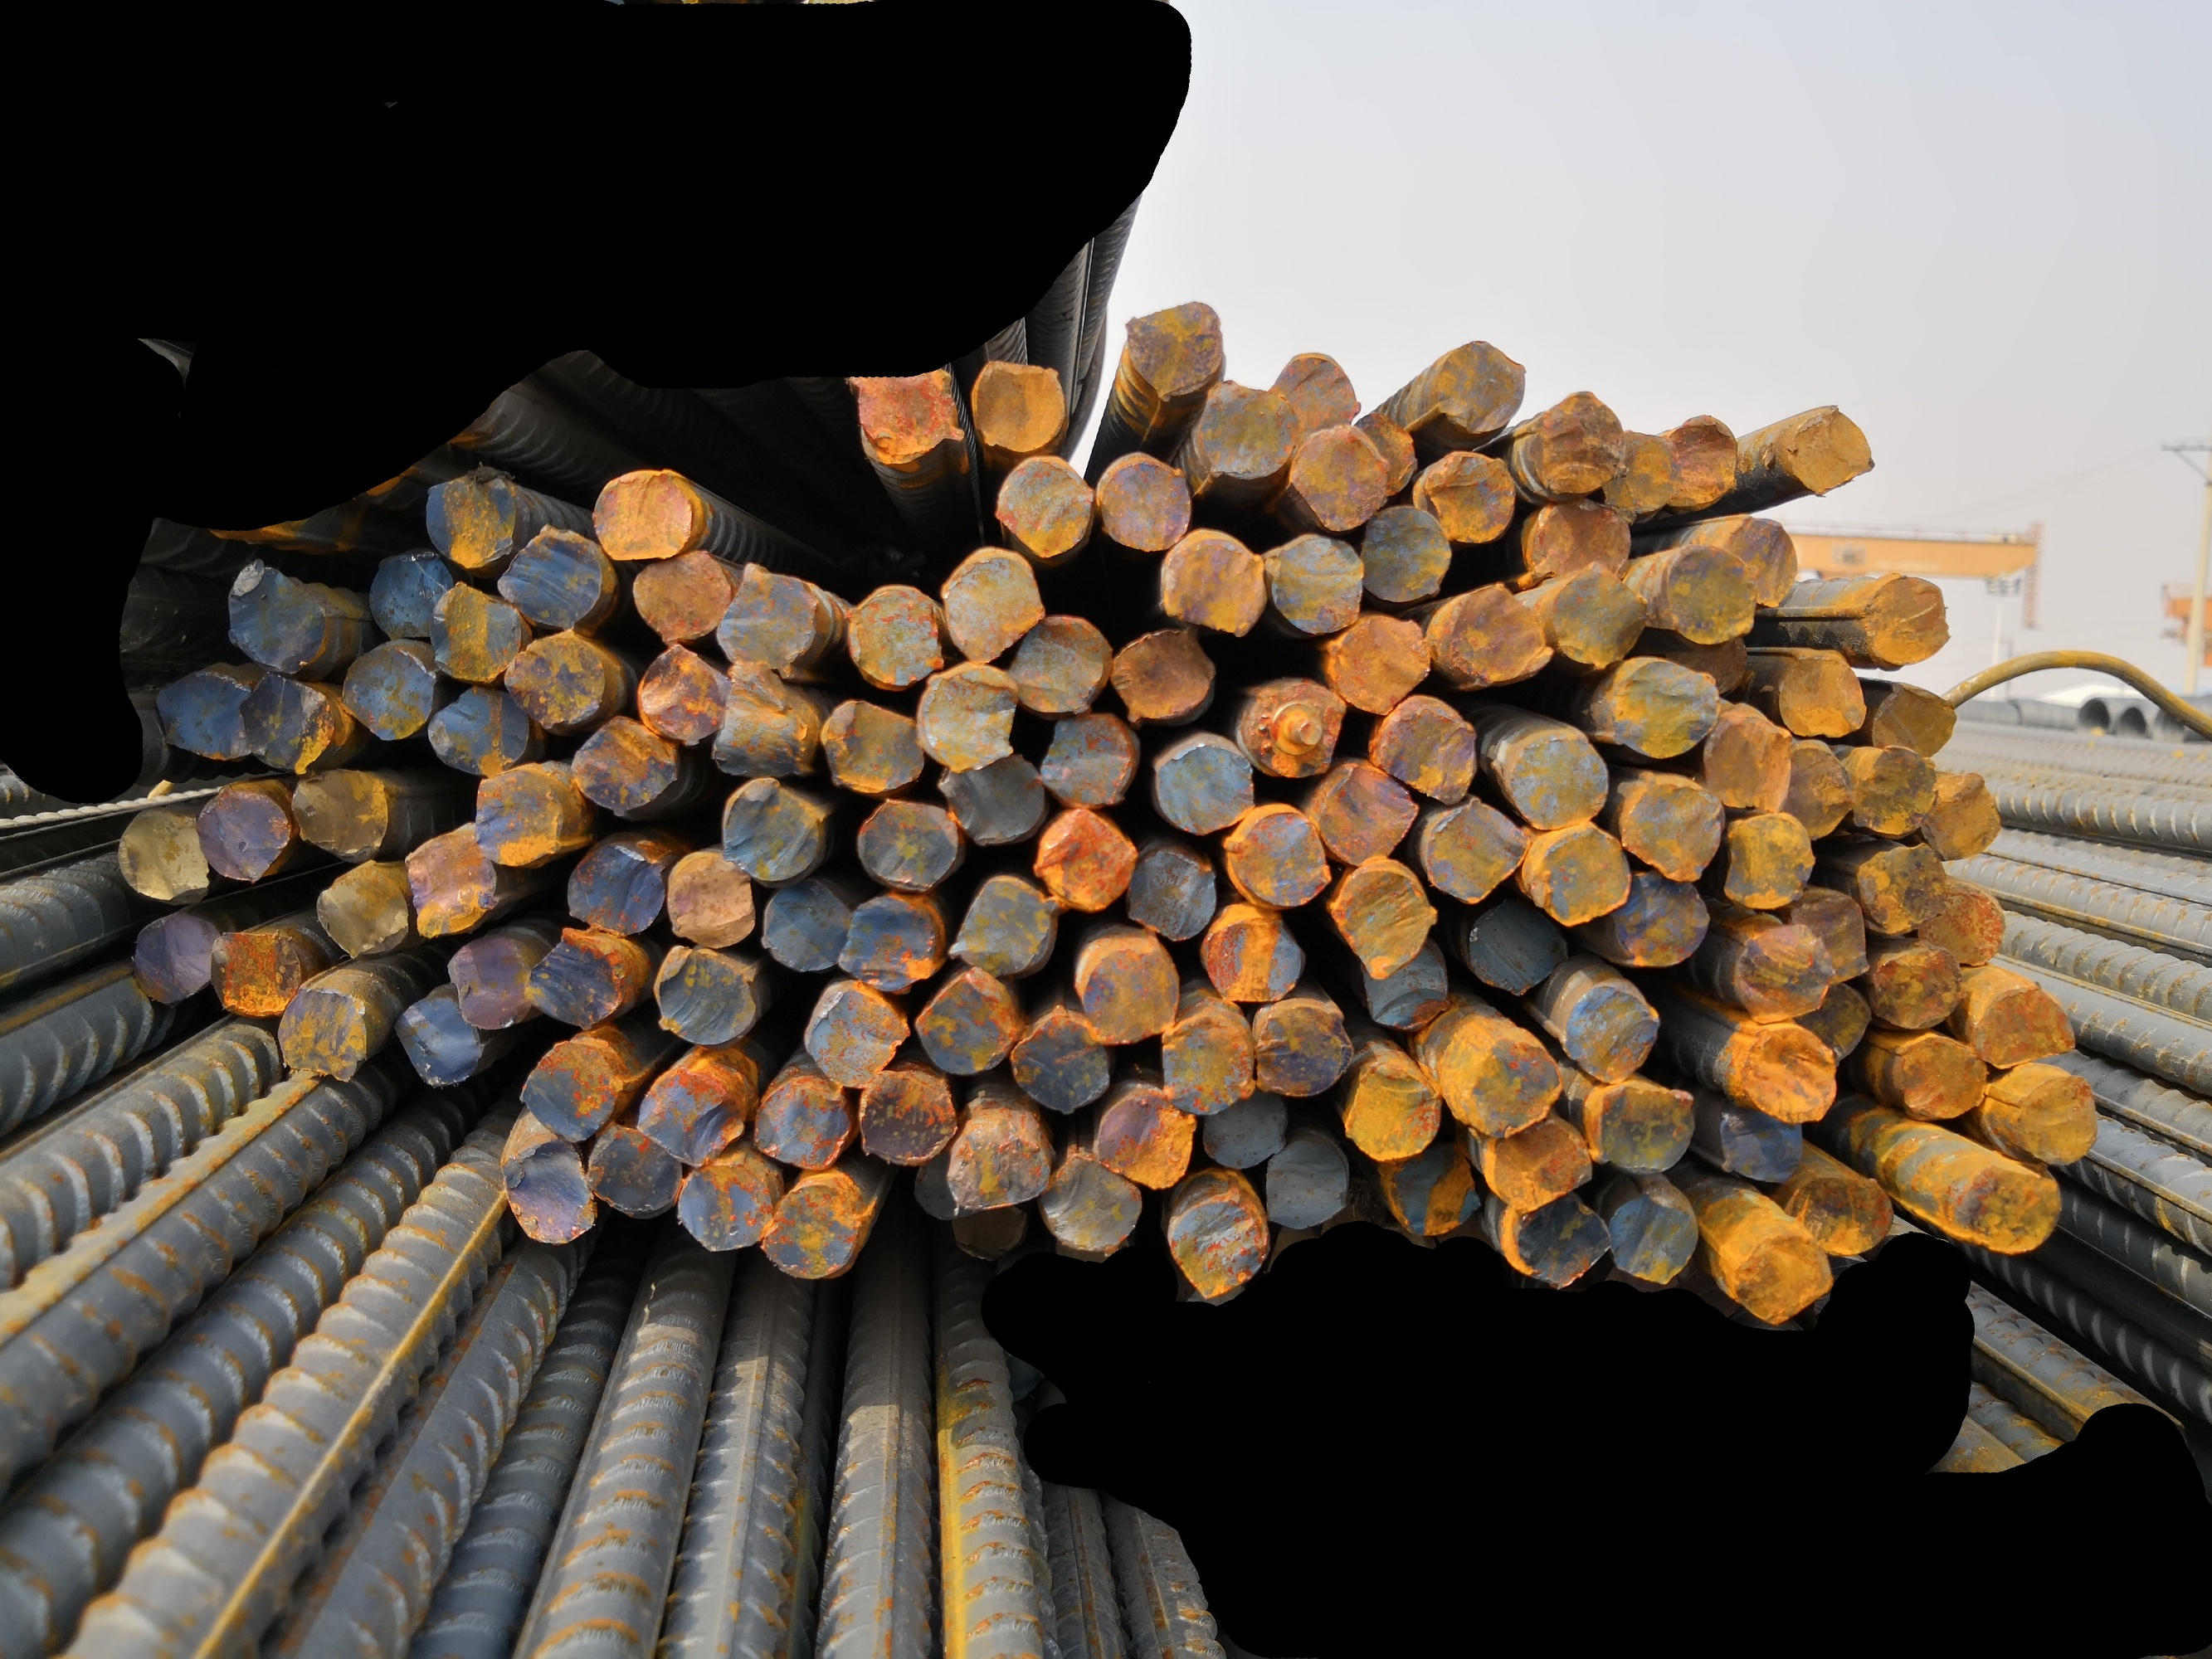rebar: (1708, 1209, 1837, 1328), (1330, 852, 1445, 985), (1443, 1028, 1565, 1141), (1935, 1157, 2064, 1262), (626, 1054, 750, 1162), (1534, 561, 1652, 673), (1492, 720, 1612, 829), (1084, 1077, 1198, 1192), (1333, 1049, 1447, 1164), (933, 547, 1044, 664), (715, 559, 833, 669), (847, 366, 966, 476), (987, 451, 1100, 565), (708, 674, 828, 781), (1154, 526, 1267, 638), (1191, 373, 1304, 484), (750, 1178, 866, 1286), (624, 538, 737, 648), (1367, 695, 1482, 803), (493, 526, 610, 633), (1006, 599, 1110, 718), (1649, 537, 1762, 645), (1438, 582, 1551, 690), (814, 694, 929, 800), (915, 657, 1020, 774), (329, 633, 439, 742), (1025, 802, 1135, 911), (1729, 1019, 1839, 1129), (221, 558, 329, 669), (1283, 422, 1389, 535), (1262, 526, 1368, 640), (1307, 760, 1421, 866), (1600, 863, 1713, 969), (567, 714, 682, 819), (1164, 1190, 1269, 1305), (1417, 798, 1534, 901), (1222, 800, 1332, 908), (497, 626, 608, 732), (840, 577, 947, 688), (1372, 1140, 1487, 1243), (1105, 626, 1222, 727), (804, 981, 912, 1089), (947, 1103, 1055, 1211), (915, 967, 1020, 1079), (1520, 821, 1632, 925), (499, 1133, 600, 1248), (1515, 495, 1633, 592), (1555, 976, 1663, 1082), (718, 777, 828, 882), (1327, 610, 1436, 714), (1623, 770, 1727, 880), (1081, 939, 1184, 1051), (467, 756, 568, 870), (1157, 1004, 1257, 1119), (1496, 1192, 1614, 1288), (1121, 296, 1229, 401), (1523, 390, 1628, 498), (750, 1072, 859, 1175), (389, 983, 490, 1094), (835, 892, 947, 993), (1236, 680, 1347, 781), (1095, 450, 1194, 563), (420, 678, 535, 775), (1405, 448, 1523, 542), (418, 575, 523, 681), (519, 924, 626, 1028), (1600, 1180, 1706, 1284), (518, 1037, 621, 1145), (1424, 333, 1527, 441), (1008, 1004, 1109, 1114), (1041, 1147, 1142, 1256), (312, 849, 411, 960), (397, 823, 495, 936), (1480, 1117, 1595, 1213), (950, 870, 1055, 974), (2001, 1065, 2104, 1171), (591, 465, 701, 565), (1607, 657, 1719, 755), (1590, 1080, 1701, 1178), (1457, 899, 1571, 995), (933, 755, 1048, 849), (1150, 737, 1257, 838), (1727, 920, 1834, 1021), (650, 946, 758, 1046), (1848, 570, 1956, 669), (148, 664, 258, 762), (281, 765, 394, 859), (628, 641, 730, 744), (190, 779, 291, 884), (1353, 502, 1454, 606), (669, 1154, 776, 1253), (275, 972, 371, 1082), (560, 836, 669, 932), (235, 673, 336, 775), (1971, 976, 2078, 1073), (1855, 939, 1963, 1035), (1347, 938, 1457, 1032), (1252, 995, 1353, 1096), (1771, 640, 1870, 742), (967, 357, 1072, 455), (1701, 706, 1795, 814), (1788, 1168, 1898, 1260), (202, 924, 305, 1021), (1776, 404, 1879, 502), (575, 1122, 683, 1215), (110, 807, 209, 906), (357, 545, 457, 645), (422, 467, 519, 568), (856, 1068, 957, 1166), (859, 796, 962, 892), (1041, 713, 1140, 810), (1844, 739, 1942, 838), (1720, 807, 1818, 906), (1849, 836, 1947, 936), (1914, 871, 2010, 972), (1890, 1032, 1991, 1127), (1203, 913, 1306, 1007), (441, 929, 532, 1035), (664, 847, 758, 948), (1260, 1129, 1353, 1232), (1785, 882, 1876, 986), (129, 908, 225, 1004), (758, 877, 852, 974), (1124, 843, 1217, 943), (1916, 762, 2003, 866), (1713, 514, 1806, 612), (1658, 410, 1740, 512), (1708, 1103, 1813, 1183), (1267, 349, 1360, 437), (1769, 739, 1851, 838), (1600, 422, 1680, 516), (1199, 1086, 1286, 1166), (1795, 972, 1874, 1061), (1863, 681, 1959, 753), (1347, 406, 1417, 500), (1659, 624, 1750, 690), (948, 1194, 1030, 1262), (908, 1157, 964, 1218)
